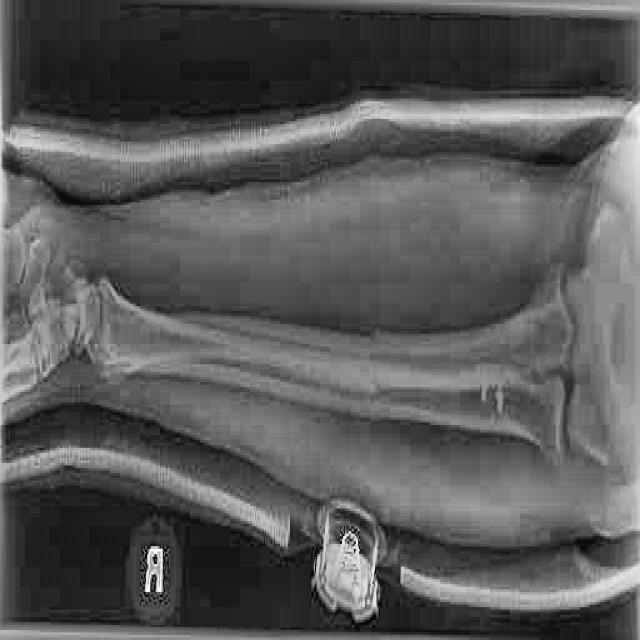forearm fracture: (354, 302, 398, 409)
